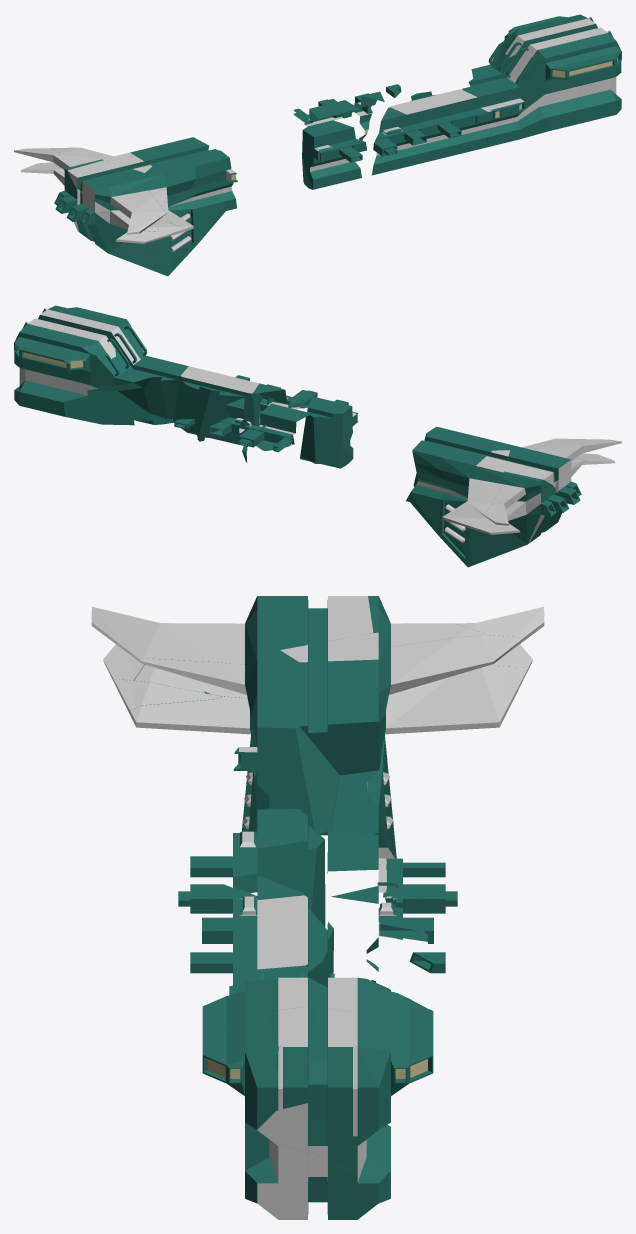
The model's file is Carrier-Shatter.fbx.
3 views of the same model, one above another, from view 1: azimuth 30°, elevation 25°; view 2: azimuth 150°, elevation 25°; view 3: azimuth 270°, elevation 25° (orthographic). The views are drawn at different scales.
Parts seen in each view (by area): view 1: Carrier_cell.011, Carrier_cell.043, Carrier_cell.029, Carrier_cell.022, Carrier_cell.048, Carrier_cell.072, Carrier_cell.041, Carrier_cell.063, Carrier_cell.038, Carrier_cell.057, Carrier_cell.033, Carrier_cell.008 (+13 smaller); view 2: Carrier_cell.043, Carrier_cell.014, Carrier_cell.048, Carrier_cell.075, Carrier_cell.029, Carrier_cell.072, Carrier_cell.022, Carrier_cell.005, Carrier_cell.001, Carrier_cell.020, Carrier_cell.012, Carrier_cell.007 (+13 smaller); view 3: Carrier_cell.011, Carrier_cell.014, Carrier_cell.029, Carrier_cell.012, Carrier_cell.020, Carrier_cell.005, Carrier_cell.008, Carrier_cell.043, Carrier_cell.048, Carrier_cell.038, Carrier_cell.075, Carrier_cell.063 (+11 smaller).
Part boxes in pixels (box(x1,y1,x2,y2)): Carrier_cell.011: box(145, 150, 237, 229); Carrier_cell.043: box(390, 89, 490, 167); Carrier_cell.029: box(67, 160, 165, 234); Carrier_cell.022: box(487, 76, 585, 146); Carrier_cell.048: box(302, 120, 366, 189); Carrier_cell.072: box(462, 54, 530, 138); Carrier_cell.041: box(66, 204, 160, 257); Carrier_cell.063: box(523, 37, 587, 82); Carrier_cell.038: box(574, 33, 621, 84); Carrier_cell.057: box(371, 107, 423, 175); Carrier_cell.033: box(123, 219, 188, 261); Carrier_cell.008: box(579, 77, 621, 122); Carrier_cell.043: box(173, 366, 262, 445); Carrier_cell.014: box(442, 450, 514, 556); Carrier_cell.048: box(300, 396, 358, 468); Carrier_cell.075: box(31, 328, 115, 389); Carrier_cell.029: box(504, 438, 621, 488); Carrier_cell.072: box(112, 341, 188, 418); Carrier_cell.022: box(65, 384, 173, 425); Carrier_cell.005: box(412, 434, 491, 482); Carrier_cell.001: box(492, 471, 564, 534); Carrier_cell.020: box(14, 346, 68, 406); Carrier_cell.012: box(14, 307, 85, 359); Carrier_cell.007: box(415, 508, 495, 567); Carrier_cell.011: box(130, 648, 339, 834); Carrier_cell.014: box(280, 632, 528, 784); Carrier_cell.029: box(91, 596, 373, 698); Carrier_cell.012: box(269, 1006, 433, 1110); Carrier_cell.020: box(255, 1063, 433, 1178); Carrier_cell.005: box(299, 659, 389, 775); Carrier_cell.008: box(245, 1132, 390, 1219); Carrier_cell.043: box(190, 895, 333, 995); Carrier_cell.048: box(190, 809, 325, 927); Carrier_cell.038: box(202, 1012, 277, 1129); Carrier_cell.075: box(312, 977, 433, 1043); Carrier_cell.063: box(202, 977, 314, 1027).
Bounding box in the file's own units: 2067 × 465 × 745.
